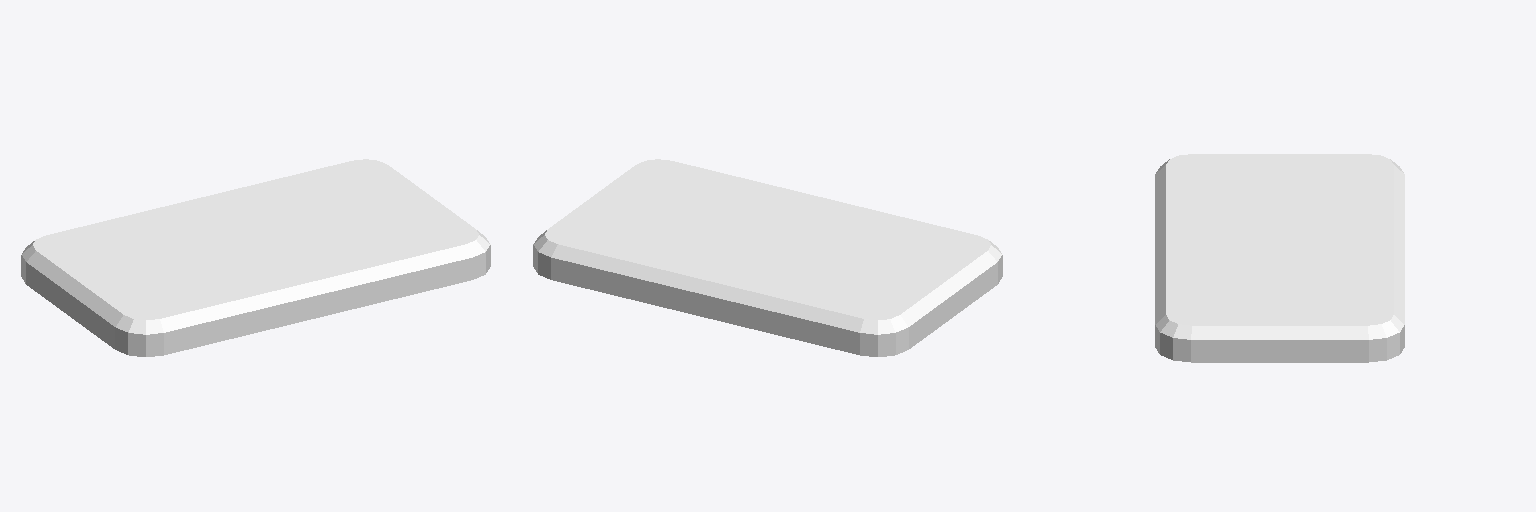
The model's file is doormat.obj.
3 renders of one model, left to right at view 1: azimuth 30°, elevation 25°; view 2: azimuth 150°, elevation 25°; view 3: azimuth 270°, elevation 25°, orthographic.
Parts seen in each view (by area): view 1: doormat; view 2: doormat; view 3: doormat.
Part boxes in pixels (x1,y1,x2,y2): doormat: (21, 159, 490, 356); doormat: (533, 159, 1002, 356); doormat: (1155, 154, 1404, 362).
Size of the model in its own units: 1.2 by 0.1 by 0.7.